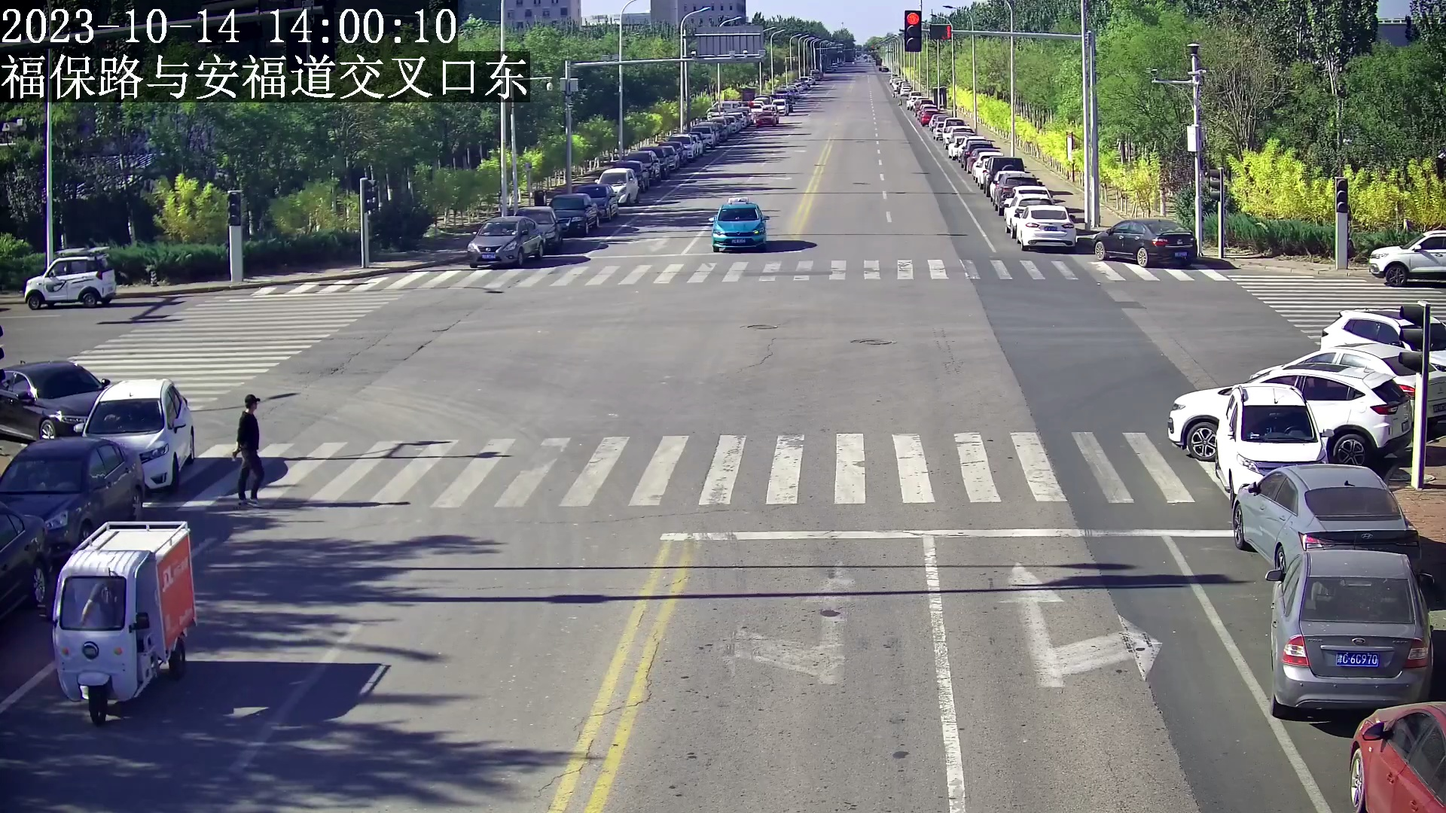person: (228, 389, 261, 504)
vehicle: (48, 516, 192, 720), (1265, 546, 1429, 712), (1166, 361, 1410, 455), (1229, 464, 1419, 562), (3, 436, 143, 560), (1216, 382, 1328, 489), (85, 379, 199, 483), (1345, 694, 1444, 813), (0, 358, 105, 440), (21, 246, 114, 309), (1089, 216, 1196, 267), (461, 218, 548, 265), (1366, 230, 1445, 281), (1016, 201, 1077, 249), (710, 199, 763, 251)
